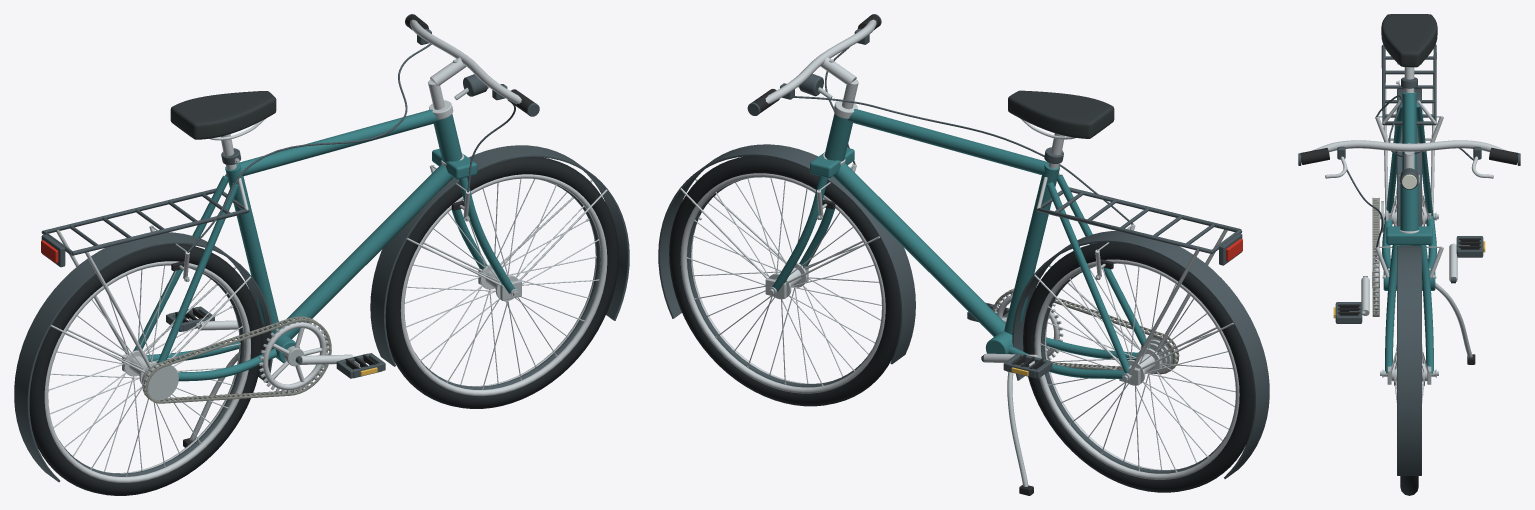
File: city-commuter-bicycle.glb
3 renders of one model, left to right at view 1: azimuth 30°, elevation 25°; view 2: azimuth 150°, elevation 25°; view 3: azimuth 270°, elevation 25°, orthographic. The views are drawn at different scales.
Parts seen in each view (by area): view 1: Diamond frame assembly - cycle-teal, Front wheel inflated commuter tire, Rear wheel inflated commuter tire, Front wheel metal assembly - chrome, Rear wheel metal assembly - chrome, Rear metal mudguard, Front metal mudguard, Commuter saddle, Rear rack platform - graphite, Linked drive chain - chain-steel, Front fork assembly - cycle-teal, Front wheel metal assembly - graphite (+8 smaller); view 2: Diamond frame assembly - cycle-teal, Front wheel inflated commuter tire, Rear wheel inflated commuter tire, Front wheel metal assembly - chrome, Rear wheel metal assembly - chrome, Rear metal mudguard, Front metal mudguard, Commuter saddle, Rear rack platform - graphite, Front fork assembly - cycle-teal, Front wheel metal assembly - graphite, Rear wheel metal assembly - graphite (+7 smaller); view 3: Front metal mudguard, Diamond frame assembly - cycle-teal, Front fork assembly - cycle-teal, Commuter saddle, Swept commuter handlebar, Rear rack platform - graphite, Rear metal mudguard, Rear rack support stays - chrome, Linked drive chain - chain-steel, Deployed kickstand, Left pedal assembly - graphite, Right pedal assembly - graphite (+10 smaller).
Part boxes in pixels (x1=…): Diamond frame assembly - cycle-teal: x1=133, y1=109, x2=462, y2=381; Front wheel inflated commuter tire: x1=385, y1=157, x2=618, y2=408; Rear wheel inflated commuter tire: x1=29, y1=244, x2=262, y2=495; Front wheel metal assembly - chrome: x1=400, y1=174, x2=607, y2=396; Rear wheel metal assembly - chrome: x1=44, y1=261, x2=250, y2=482; Rear metal mudguard: x1=14, y1=232, x2=272, y2=482; Front metal mudguard: x1=370, y1=145, x2=629, y2=366; Commuter saddle: x1=170, y1=91, x2=276, y2=139; Rear rack platform - graphite: x1=41, y1=188, x2=249, y2=255; Linked drive chain - chain-steel: x1=142, y1=316, x2=331, y2=403; Front fork assembly - cycle-teal: x1=432, y1=148, x2=515, y2=293; Front wheel metal assembly - graphite: x1=415, y1=179, x2=600, y2=389; Diamond frame assembly - cycle-teal: x1=824, y1=109, x2=1150, y2=379; Front wheel inflated commuter tire: x1=669, y1=156, x2=900, y2=406; Rear wheel inflated commuter tire: x1=1023, y1=242, x2=1254, y2=492; Front wheel metal assembly - chrome: x1=680, y1=173, x2=885, y2=393; Rear wheel metal assembly - chrome: x1=1034, y1=259, x2=1239, y2=479; Rear metal mudguard: x1=1012, y1=231, x2=1269, y2=478; Front metal mudguard: x1=658, y1=144, x2=915, y2=364; Commuter saddle: x1=1008, y1=90, x2=1114, y2=138; Rear rack platform - graphite: x1=1036, y1=187, x2=1242, y2=253; Front fork assembly - cycle-teal: x1=772, y1=148, x2=854, y2=291; Front wheel metal assembly - graphite: x1=687, y1=178, x2=871, y2=387; Rear wheel metal assembly - graphite: x1=1041, y1=266, x2=1224, y2=473; Front metal mudguard: x1=1397, y1=245, x2=1421, y2=475; Diamond frame assembly - cycle-teal: x1=1382, y1=92, x2=1436, y2=290; Front fork assembly - cycle-teal: x1=1385, y1=226, x2=1433, y2=373; Commuter saddle: x1=1381, y1=14, x2=1437, y2=67; Swept commuter handlebar: x1=1312, y1=140, x2=1506, y2=152; Rear rack platform - graphite: x1=1381, y1=44, x2=1436, y2=125; Rear metal mudguard: x1=1397, y1=88, x2=1421, y2=245; Rear rack support stays - chrome: x1=1382, y1=52, x2=1436, y2=213; Linked drive chain - chain-steel: x1=1372, y1=197, x2=1379, y2=316; Deployed kickstand: x1=1435, y1=282, x2=1472, y2=357; Left pedal assembly - graphite: x1=1456, y1=236, x2=1483, y2=257; Right pedal assembly - graphite: x1=1335, y1=302, x2=1362, y2=323.
Size of the model in its own units: 1.83 by 1.06 by 0.647.
